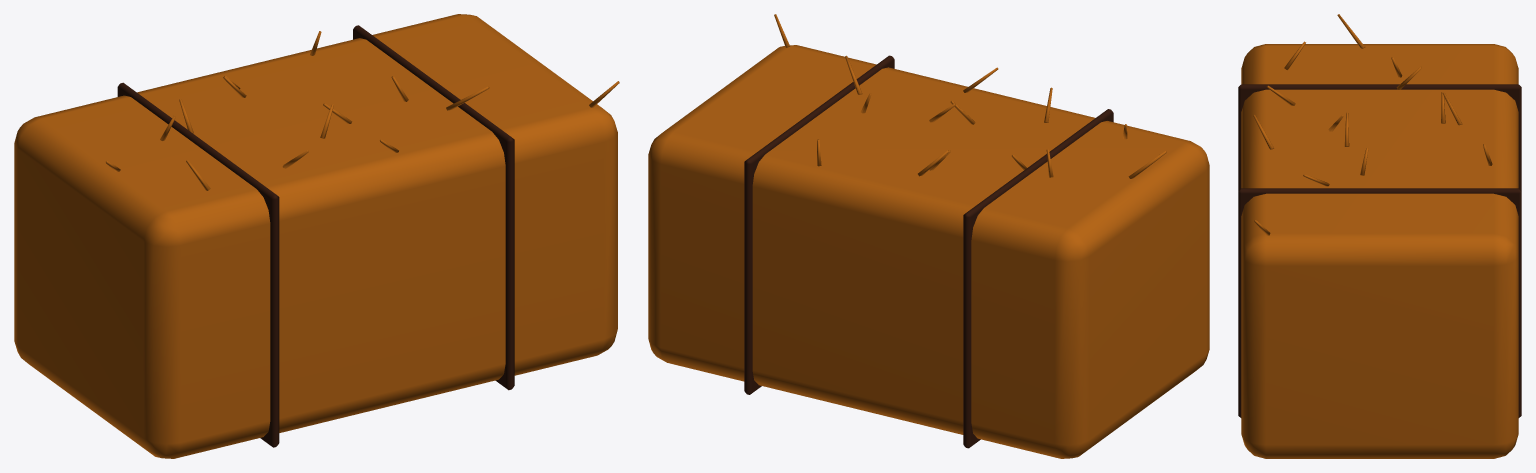
Rendered from hay_bale.obj.
3 views of the same model, side by side, from view 1: azimuth 30°, elevation 25°; view 2: azimuth 150°, elevation 25°; view 3: azimuth 270°, elevation 25° (orthographic). The views are drawn at different scales.
Parts seen in each view (by area): view 1: LH_hay_bale; view 2: LH_hay_bale; view 3: LH_hay_bale.
Part boxes in pixels (box(x1,y1,x2,y2)): LH_hay_bale: box(14, 14, 619, 458); LH_hay_bale: box(648, 14, 1209, 458); LH_hay_bale: box(1238, 14, 1521, 458).
Size of the model in its own units: 0.8 by 0.4466 by 0.46.
